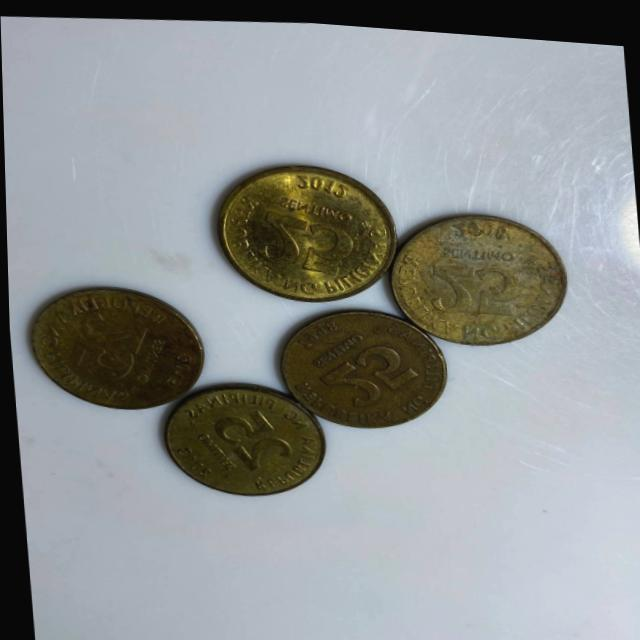25Cent_Old_Front: (316, 328, 424, 412), (254, 203, 369, 278), (425, 245, 533, 318), (208, 398, 303, 474), (65, 304, 160, 380)
